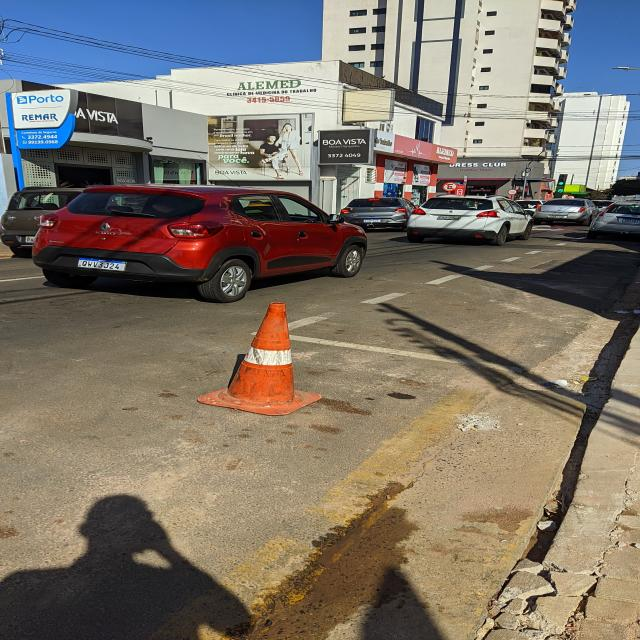cone: (192, 299, 326, 417)
